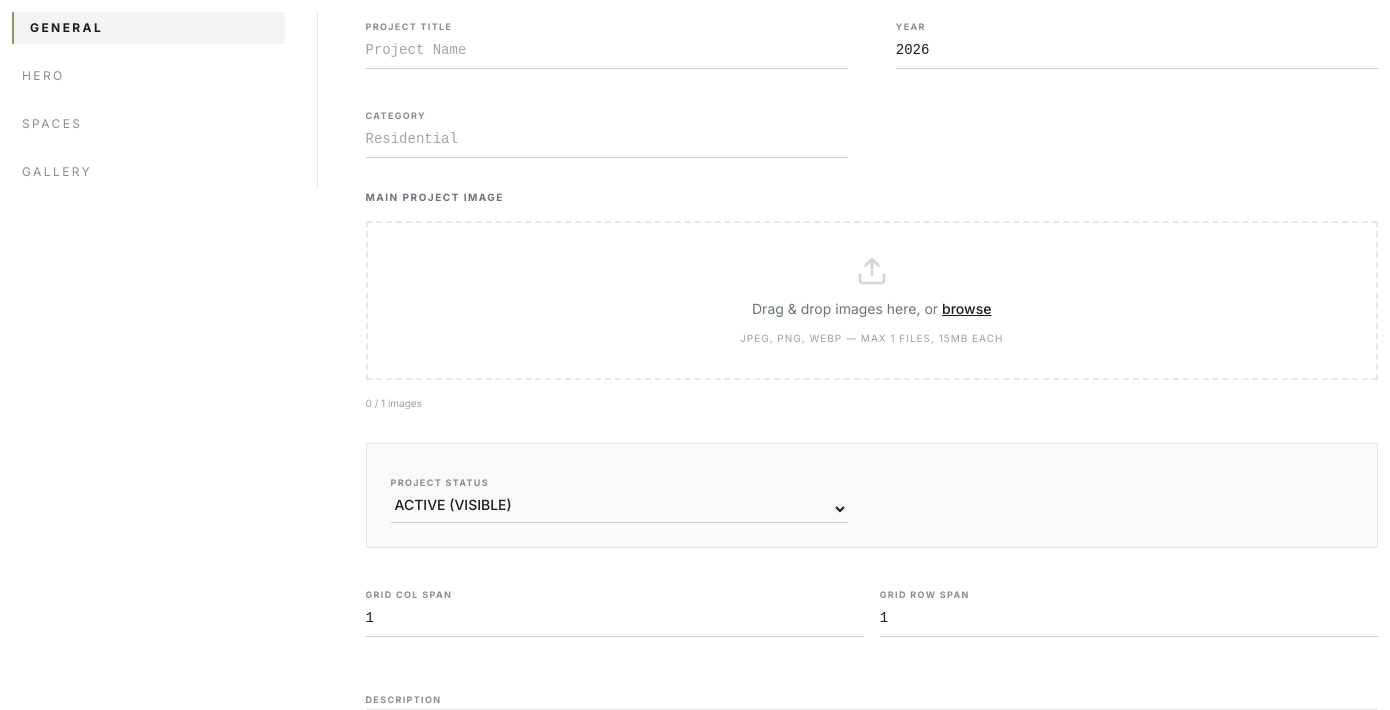
it: ProjectForm › switches to gallery tab and shows Add Image button
The image size is (1390, 710).
Click the button "gallery" at (57, 172), box [12, 156, 284, 188]
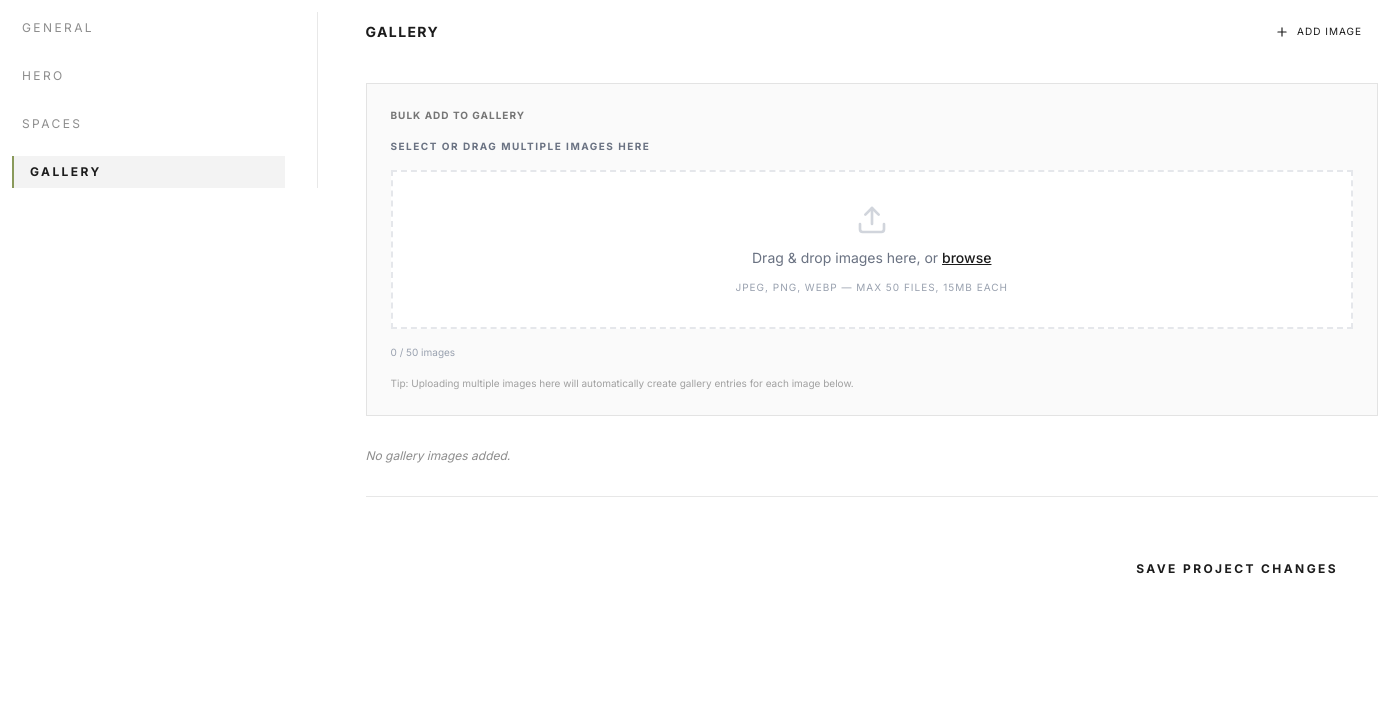
Result: the button "Add Image" is shown at [1259, 12, 1378, 51]
